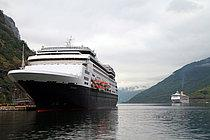Ship: (2, 33, 125, 117), (171, 87, 196, 108)
